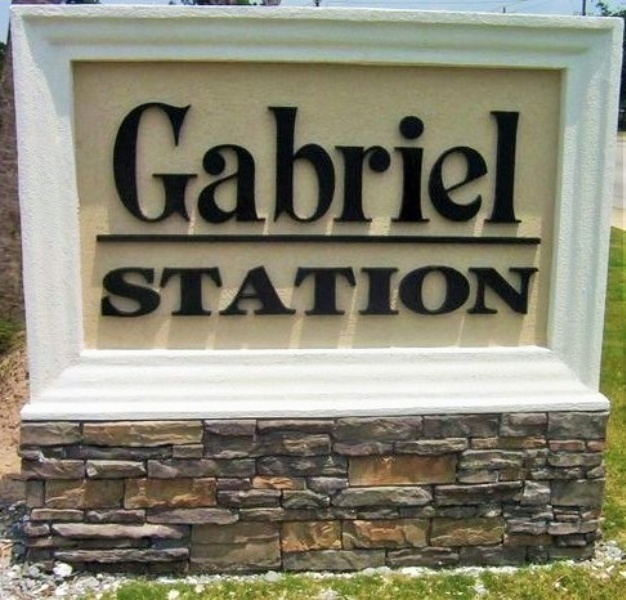text: (113, 102, 128, 227), (129, 102, 144, 227), (145, 102, 160, 227), (161, 102, 176, 227), (177, 102, 192, 227), (193, 102, 208, 227), (209, 102, 224, 227), (225, 102, 240, 227), (241, 102, 256, 227), (257, 102, 272, 227), (273, 102, 288, 227), (289, 102, 304, 227), (305, 102, 320, 227), (321, 102, 336, 227), (337, 102, 352, 227), (353, 102, 368, 227), (369, 102, 384, 227), (385, 102, 400, 227), (401, 102, 416, 227), (417, 102, 432, 227), (433, 102, 448, 227), (449, 102, 464, 227), (465, 102, 480, 227), (481, 102, 496, 227), (497, 102, 512, 227), (513, 102, 525, 227), (113, 263, 128, 320), (129, 263, 144, 320), (145, 263, 160, 320), (161, 263, 176, 320), (177, 263, 192, 320), (193, 263, 208, 320), (209, 263, 224, 320), (225, 263, 240, 320), (241, 263, 256, 320), (257, 263, 272, 320), (273, 263, 288, 320), (289, 263, 304, 320), (305, 263, 320, 320), (321, 263, 336, 320), (337, 263, 352, 320), (353, 263, 368, 320), (369, 263, 384, 320), (385, 263, 400, 320), (401, 263, 416, 320), (417, 263, 432, 320), (433, 263, 448, 320), (449, 263, 464, 320), (465, 263, 480, 320), (481, 263, 496, 320), (497, 263, 512, 320), (513, 263, 528, 320), (101, 263, 112, 320), (529, 263, 540, 320), (110, 102, 112, 227)
